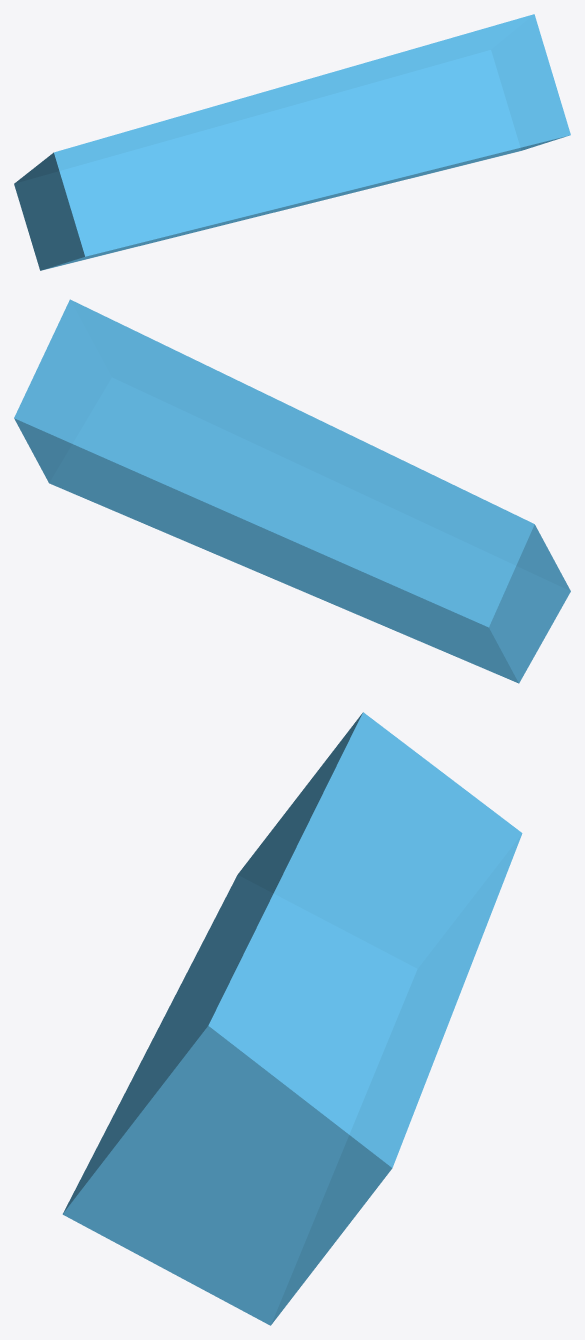
Rendered from Event_421115418_HErechit_62.fbx.
3 views of the same model, one above another, from view 1: azimuth 30°, elevation 25°; view 2: azimuth 150°, elevation 25°; view 3: azimuth 270°, elevation 25° (orthographic). The views are drawn at different scales.
Visible parts, largest first — view 1: Model; view 2: Model; view 3: Model.
Part boxes in pixels (box(x1,y1,x2,y2)): Model: box(14, 14, 570, 270); Model: box(14, 299, 570, 683); Model: box(62, 712, 522, 1325).
Bounding box in the file's own units: 1.65 × 0.6627 × 0.7375.
